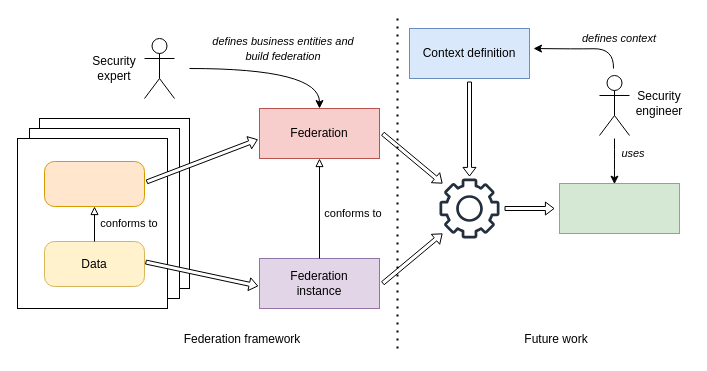
This 707x371 diagram has some shape labels left out. The shapes that lost their labels are listed below. From the top down, each one's box as (x1, y1, x2, y2) in pixels, then its label:
(44, 160, 144, 206): Data Format
(558, 182, 680, 234): Contextual ontology
